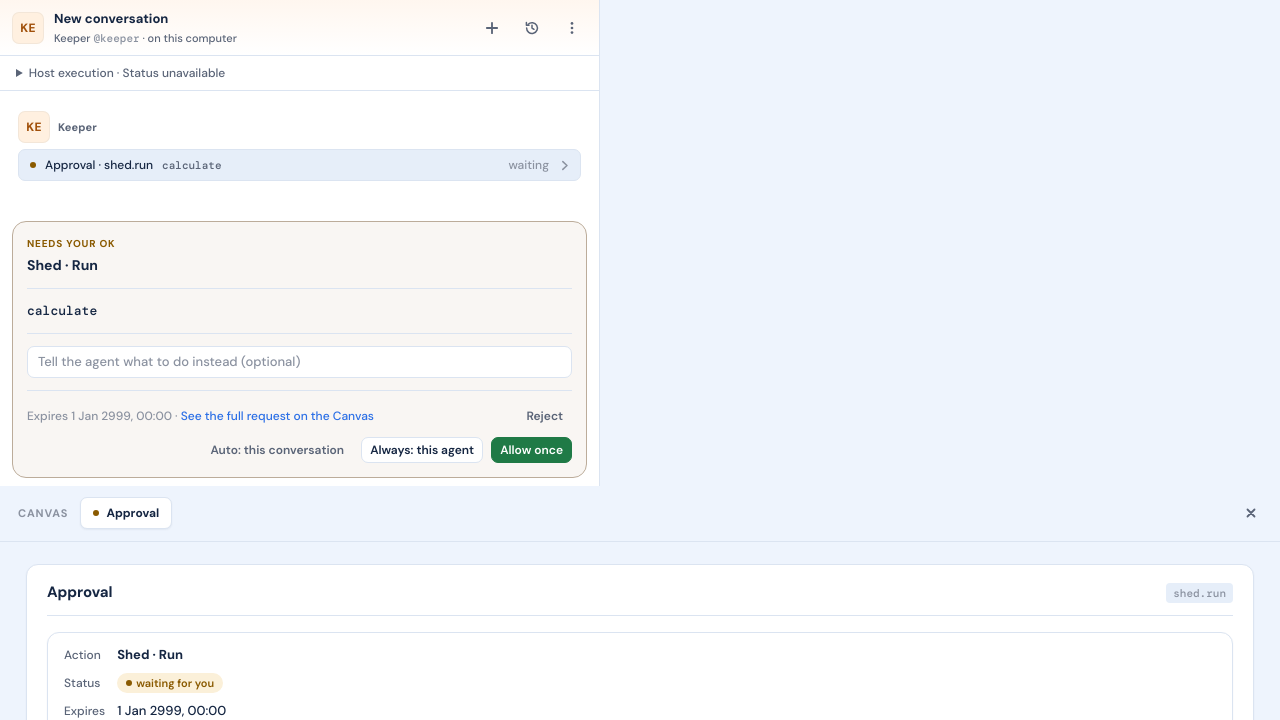
Test: conversation browser canvas › restores an approval in the dock after reload and returns the composer after a decision
The width and height of the screenshot is (1280, 720).
Expected: the button "Always: this agent" is shown, x1=361 y1=436 x2=483 y2=462
Expected: the button "Approval · shed.run calculate waiting" is shown, x1=18 y1=149 x2=581 y2=181
What coordinates should you click on to do the following:
click the button "Allow once"
I would click on:
 (532, 450)
Its box is x1=491 y1=436 x2=572 y2=462.
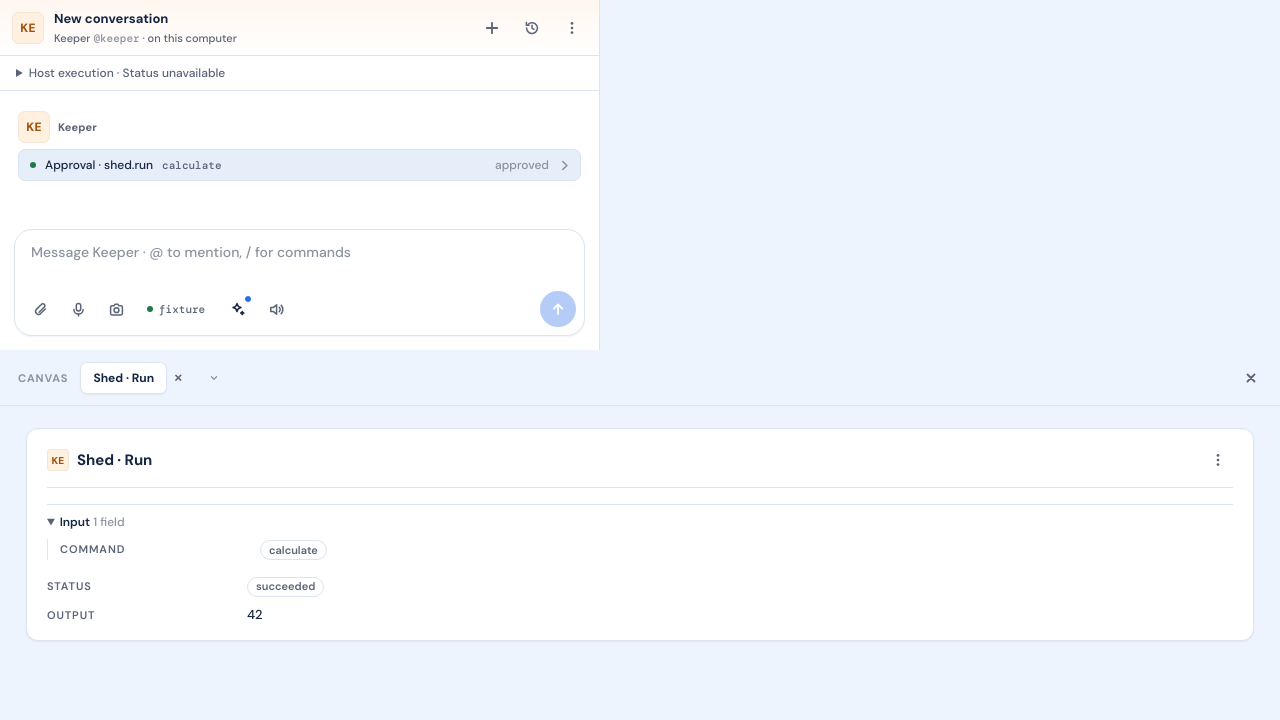
Result: the element with test id "approval-dock" is gone
Result: the button "Approval · shed.run calculate approved" is shown at x1=18 y1=149 x2=581 y2=181
